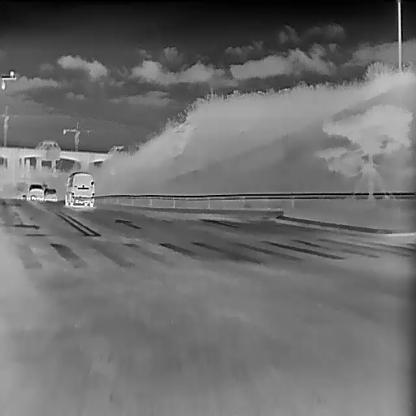car: (64, 171, 94, 207), (26, 184, 43, 202), (43, 187, 56, 201)
